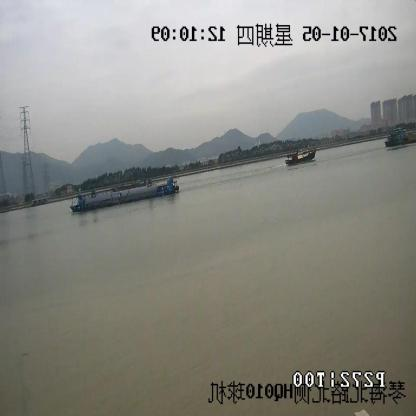Fishing Boat: (285, 147, 315, 165)
